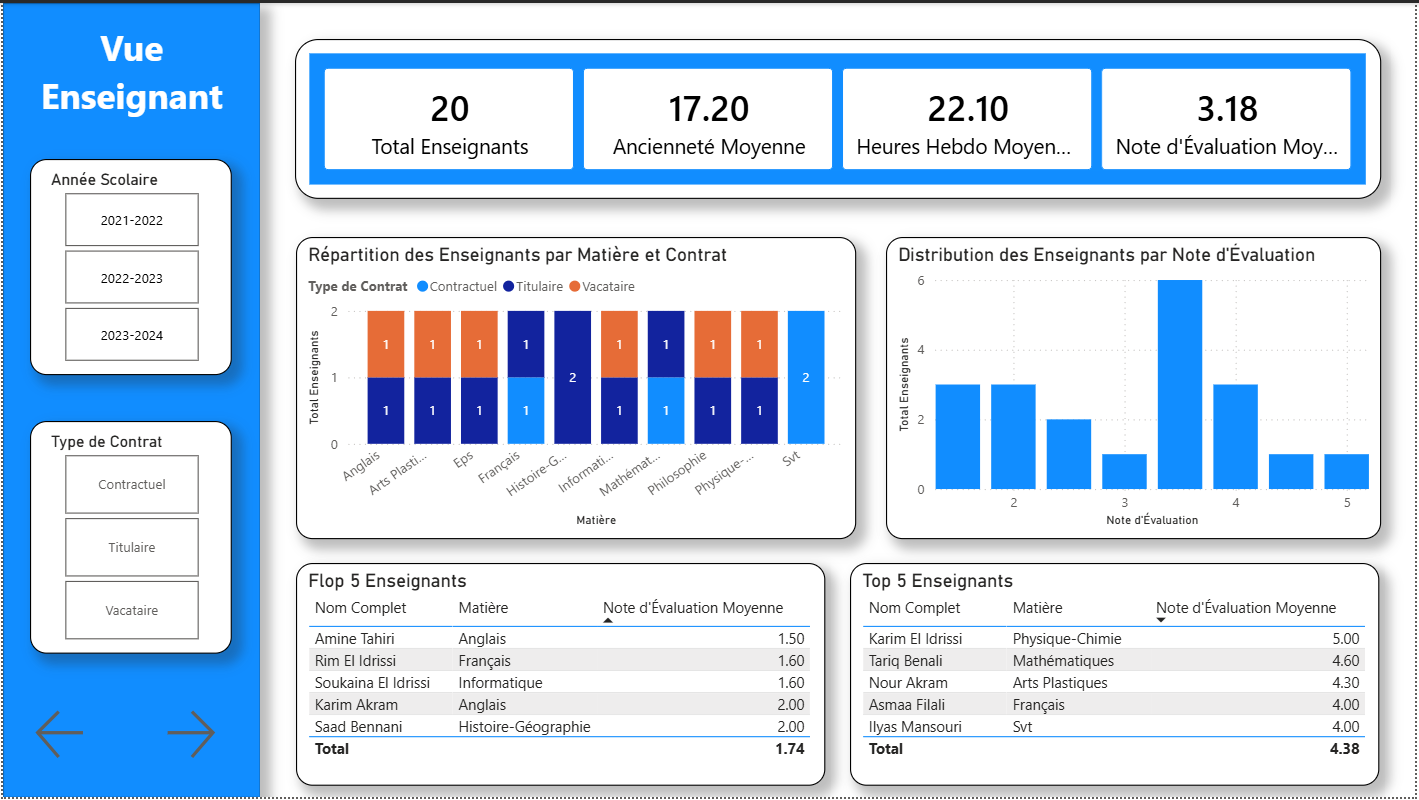

What the dashboard file says about the page in this screenshot:
{"tool":"powerbi","page":{"name":"Vue Enseignants","canvas":[1280,720],"ordinal":1},"visuals":[{"type":"cardVisual","fields":{"Data":["_Mesures.Total Enseignants","_Mesures.Ancienneté Moyenne","_Mesures.Heures Hebdo Moyennes","_Mesures.Note d'Évaluation Moyenne"]},"box":[241,90.4,983.6,145.8],"z":0},{"type":"columnChart","title":"Répartition des Enseignants par Matière et Contrat","fields":{"Category":["teachers.subject"],"Y":["_Mesures.Total Enseignants"],"Series":["teachers.contract_type"]},"box":[241,246.9,507.3,272.1],"z":1000},{"type":"clusteredColumnChart","title":"Distribution des Enseignants par Note d''Évaluation","fields":{"Y":["_Mesures.Total Enseignants"],"Category":["teachers.performance_rating (bins)"]},"box":[775.6,246.9,449,272.1],"z":2000},{"type":"tableEx","title":"Top 5 Enseignants","fields":{"Values":["teachers.full_name","teachers.subject","_Mesures.Note d'Évaluation Moyenne"]},"box":[241,529.7,491.8,190.5],"z":3000},{"type":"tableEx","title":"Flop 5 Enseignants","fields":{"Values":["teachers.full_name","teachers.subject","_Mesures.Note d'Évaluation Moyenne"]},"box":[732.8,529.7,491.8,190.5],"z":4000}]}

Visuals, with their boxes in screenshot pixels (x1, y1, x2, y2), scaled from the page's 1280x720 canvas onto the 1419x800 screenshot:
cardVisual - _Mesures.Total Enseignants x _Mesures.Ancienneté Moyenne: <bbox>267, 100, 1358, 262</bbox>
"Répartition des Enseignants par Matière et Contrat" columnChart: <bbox>267, 274, 830, 577</bbox>
"Distribution des Enseignants par Note d''Évaluation" clusteredColumnChart: <bbox>860, 274, 1358, 577</bbox>
"Top 5 Enseignants" tableEx: <bbox>267, 589, 812, 799</bbox>
"Flop 5 Enseignants" tableEx: <bbox>812, 589, 1358, 799</bbox>
